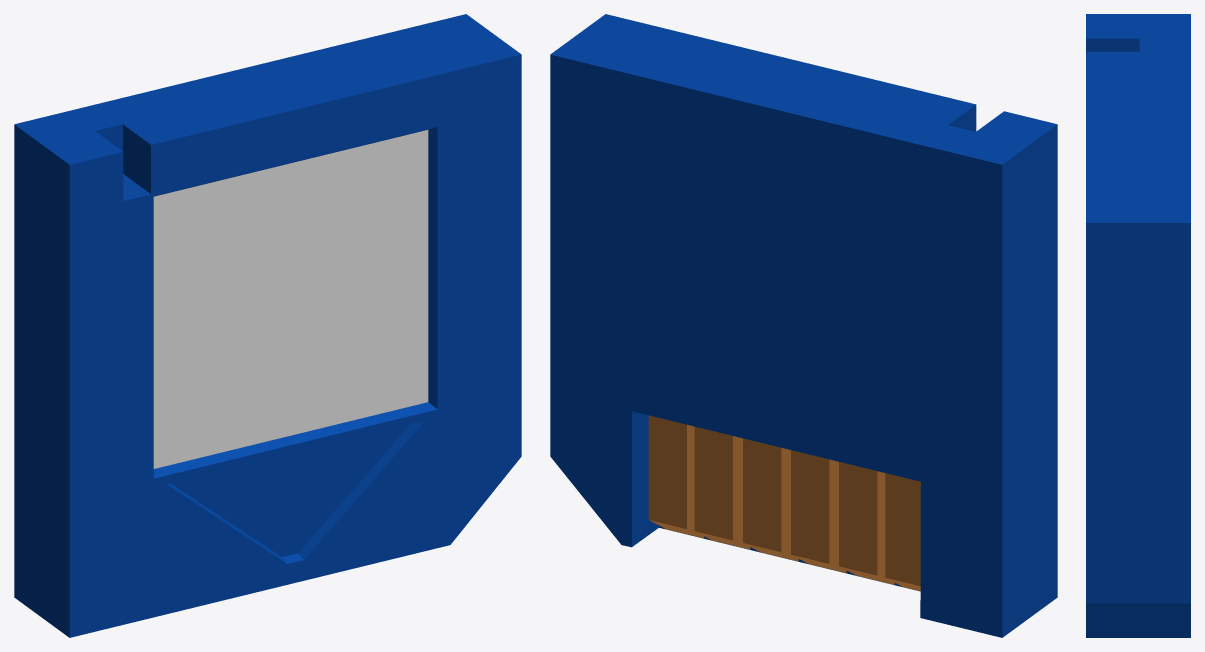
The model's file is Cartridge.fbx.
3 views of the same model, side by side, from view 1: azimuth 30°, elevation 25°; view 2: azimuth 150°, elevation 25°; view 3: azimuth 270°, elevation 25° (orthographic). The views are drawn at different scales.
Visible parts, largest first — view 1: Cartridge; view 2: Cartridge, Brace5, Brace4, Brace3, Brace6, Brace2, Brace1; view 3: Cartridge.
Part boxes in pixels (x1,y1,x2,y2): Cartridge: [14, 14, 521, 637]; Cartridge: [550, 14, 1057, 637]; Brace5: [694, 426, 750, 549]; Brace4: [743, 438, 798, 561]; Brace3: [791, 450, 846, 572]; Brace6: [648, 415, 704, 538]; Brace2: [839, 462, 894, 584]; Brace1: [885, 473, 920, 591]; Cartridge: [1086, 14, 1190, 637].
Bounding box in the file's own units: 111 × 111 × 23.63.
